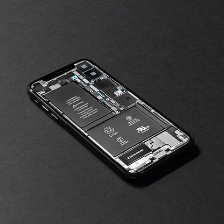phone: (24, 55, 199, 187)
